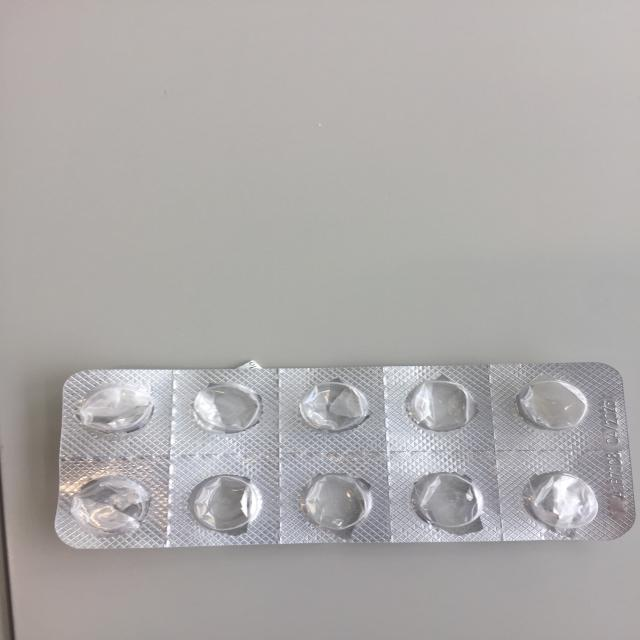Empty: (60, 472, 157, 538), (518, 466, 608, 535), (184, 467, 268, 537), (404, 464, 489, 533), (286, 376, 379, 438), (292, 470, 376, 533), (72, 380, 162, 438), (401, 376, 480, 438), (187, 381, 268, 436), (516, 376, 591, 434)
